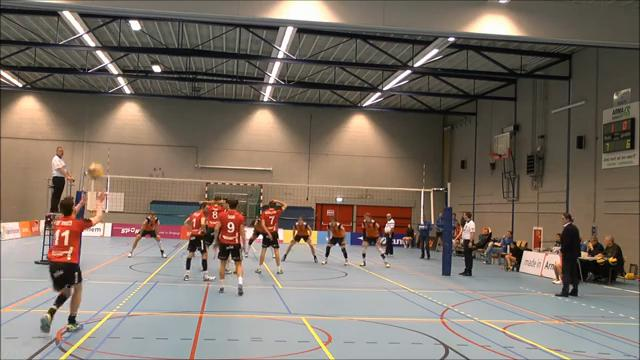battuta: (34, 184, 112, 340)
